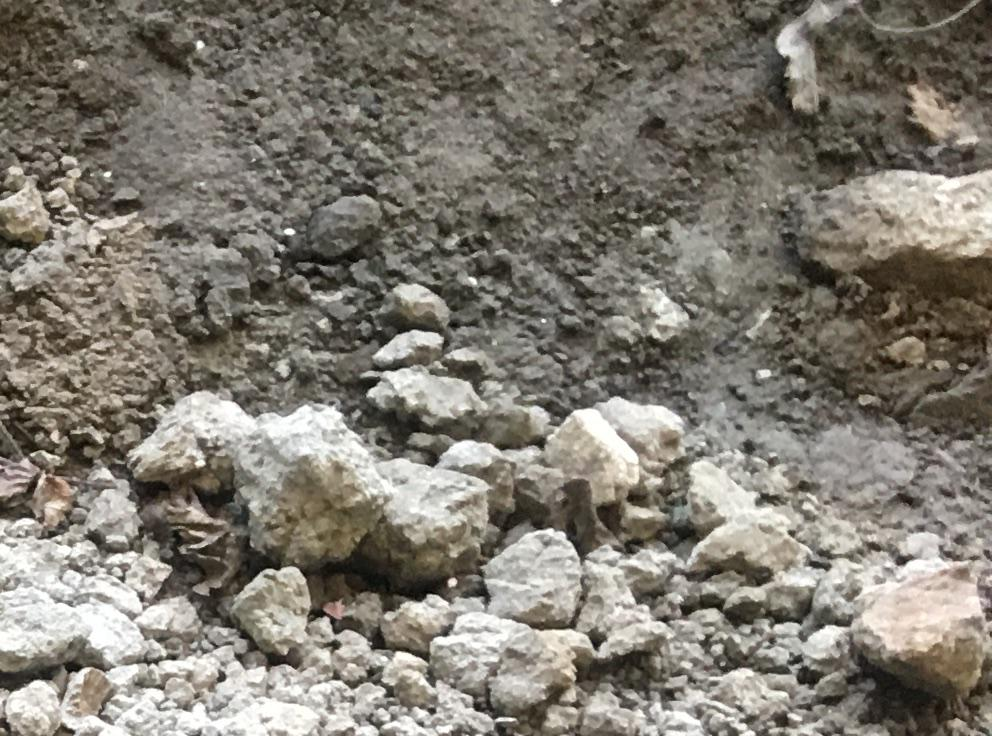block: (792, 164, 992, 303), (229, 406, 374, 567), (848, 559, 982, 705), (548, 398, 697, 507), (367, 456, 487, 585), (122, 387, 260, 496), (475, 533, 581, 630)
